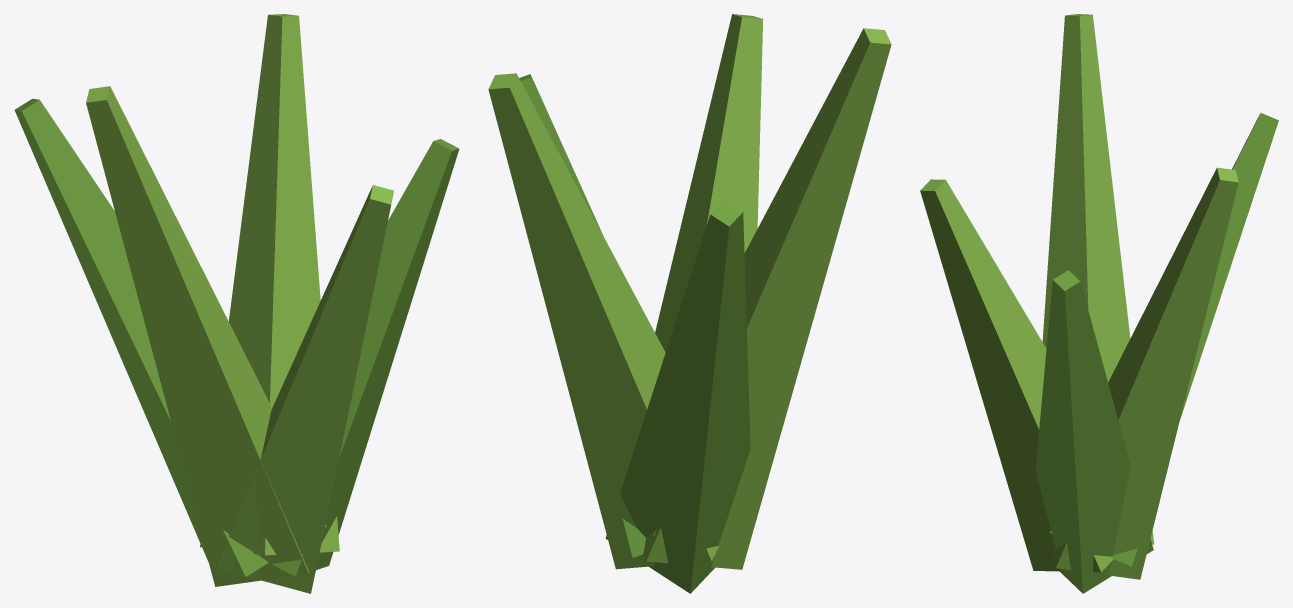
File: crop_carrot_1.glb
3 renders of one model, left to right at view 1: azimuth 30°, elevation 25°; view 2: azimuth 150°, elevation 25°; view 3: azimuth 270°, elevation 25°, orthographic. The views are drawn at different scales.
Visible parts, largest first — view 1: crop_carrot_1; view 2: crop_carrot_1; view 3: crop_carrot_1.
Part boxes in pixels (left/top/right/bottom): crop_carrot_1: left=14, top=14, right=459, bottom=593; crop_carrot_1: left=488, top=14, right=891, bottom=593; crop_carrot_1: left=920, top=14, right=1278, bottom=593.
Size of the model in its own units: 0.1086 by 0.153 by 0.1025.
